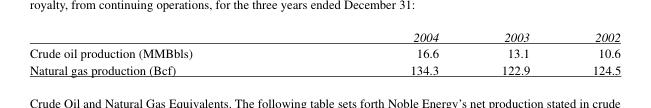table: (28, 28, 620, 77)
table column: (28, 28, 300, 77), (300, 28, 469, 77), (469, 28, 560, 77), (560, 28, 620, 77)
table column header: (28, 28, 620, 44)
table row: (28, 60, 620, 77), (28, 28, 620, 44), (28, 44, 620, 60)
